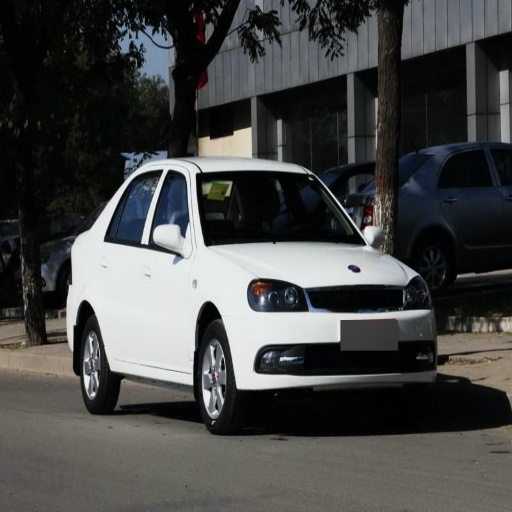front_bumper: (231, 285, 437, 388)
front_right_door: (145, 169, 191, 370)
front_right_light: (247, 279, 303, 312)
hood: (226, 245, 412, 286)
